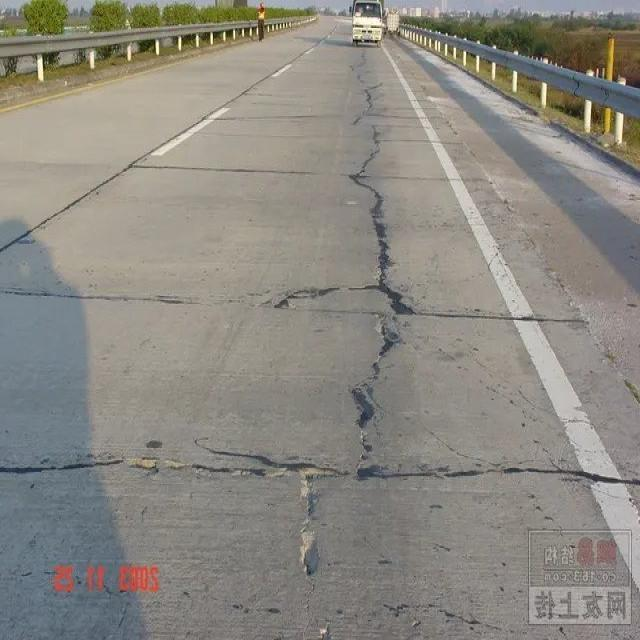pothole: (327, 47, 412, 490)
